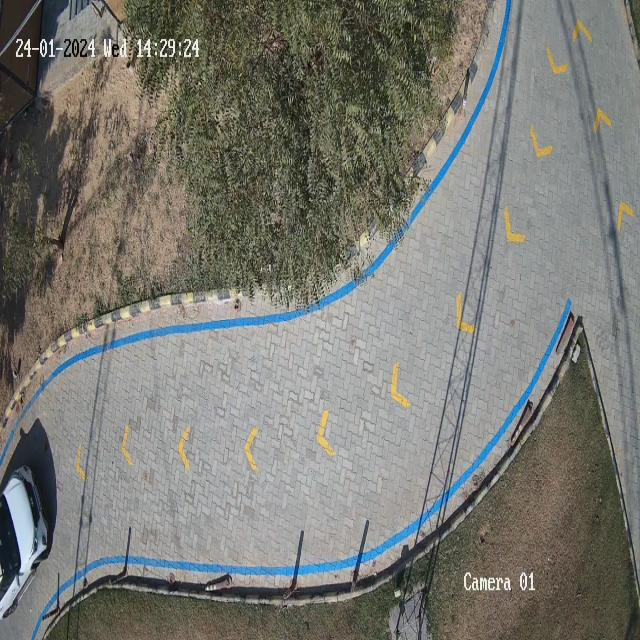car: (0, 467, 48, 618)
